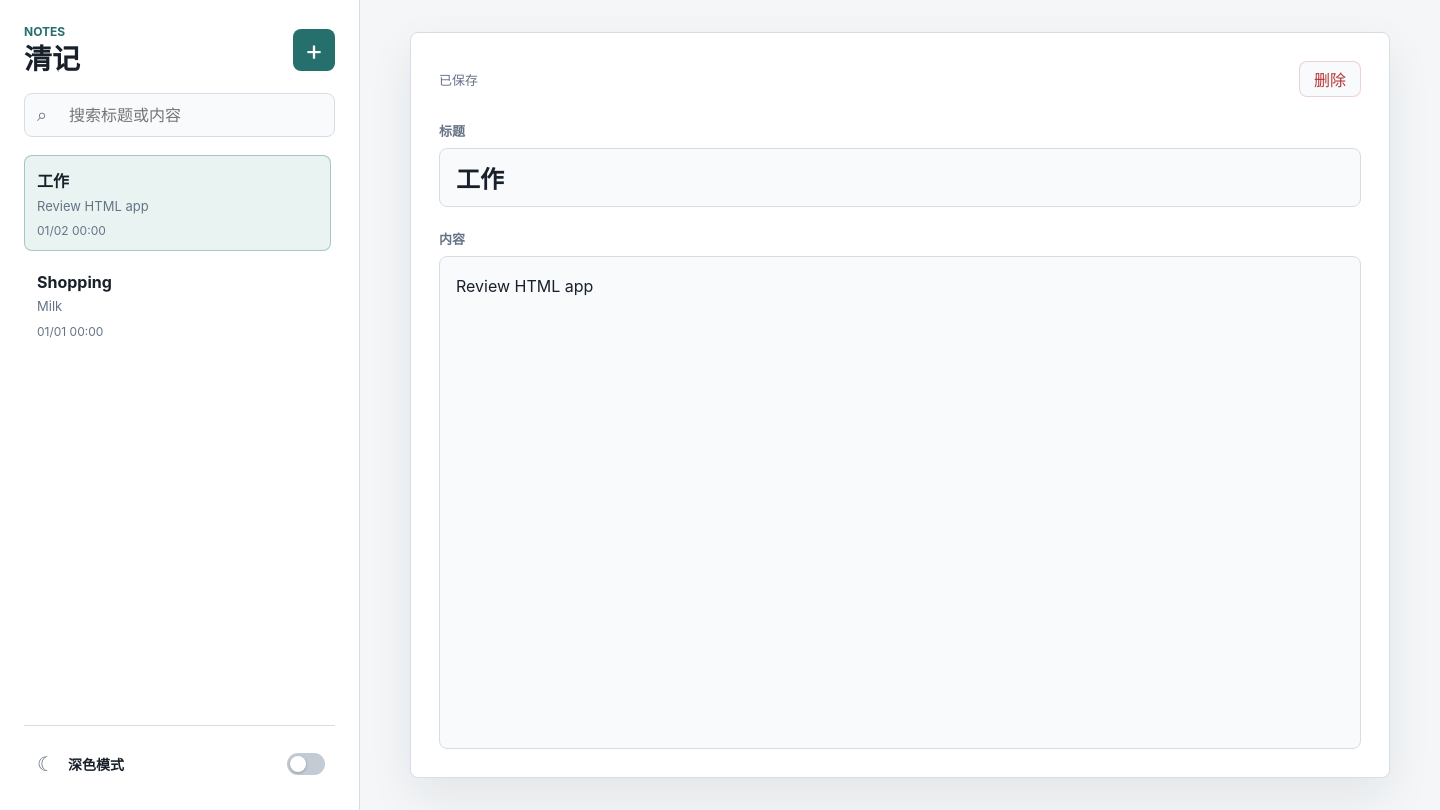
Test: App › filters notes by title and content
Expected: the heading "清记" is shown, [24,43,80,75]
Type "html" into the search field with placeholder "搜索标题或内容".
click(194, 115); type("html")  # box [67,104,322,126]
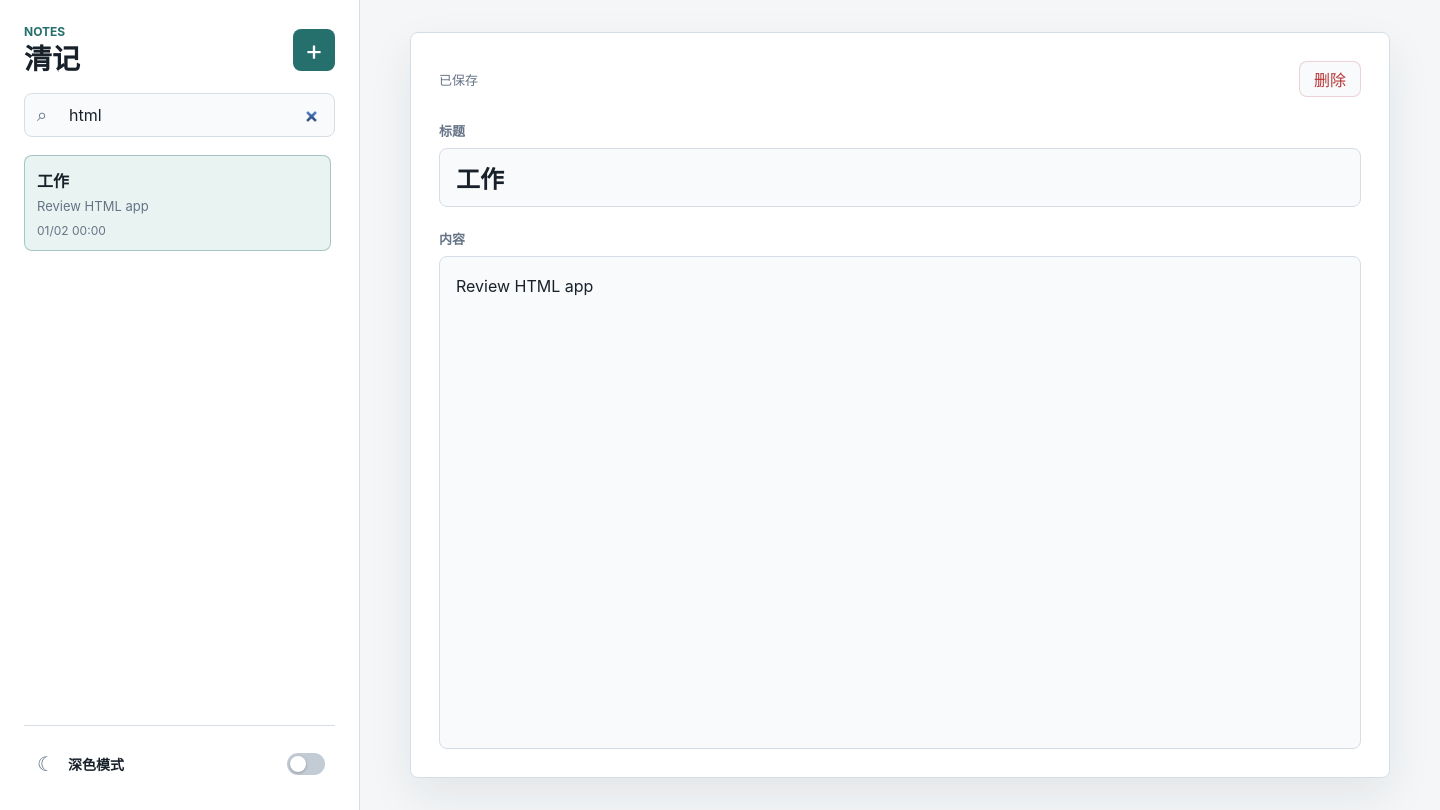
Expected: the button "工作 Review HTML app 01/02 00:00" is shown, [24,155,331,251]
Result: the button "Shopping" is gone
